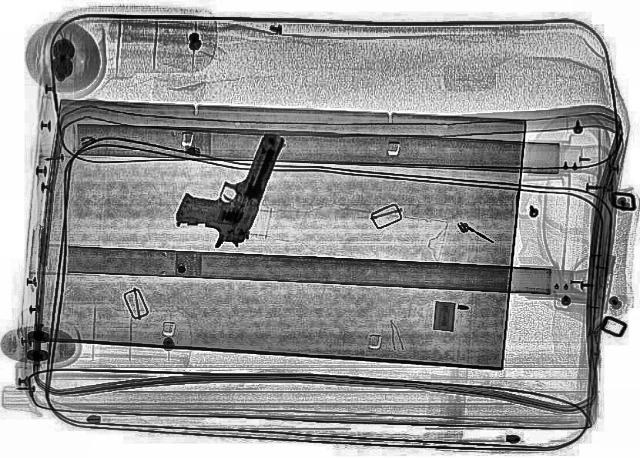Gun: (164, 122, 290, 252)
